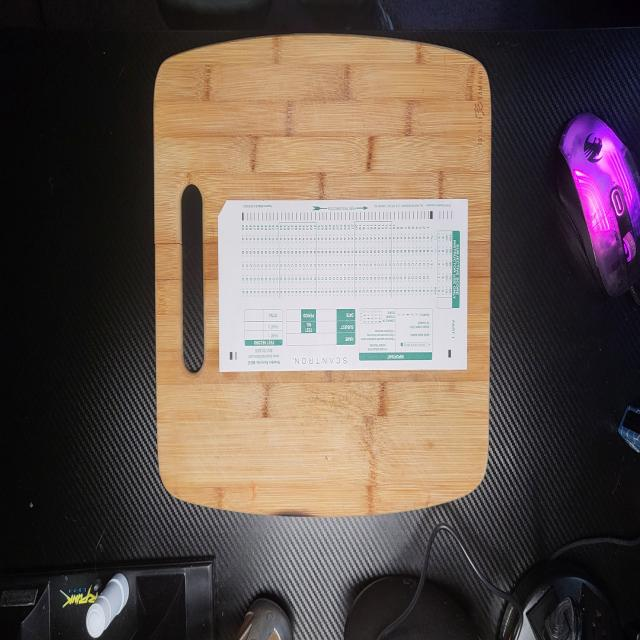scantron: (217, 198, 468, 371)
